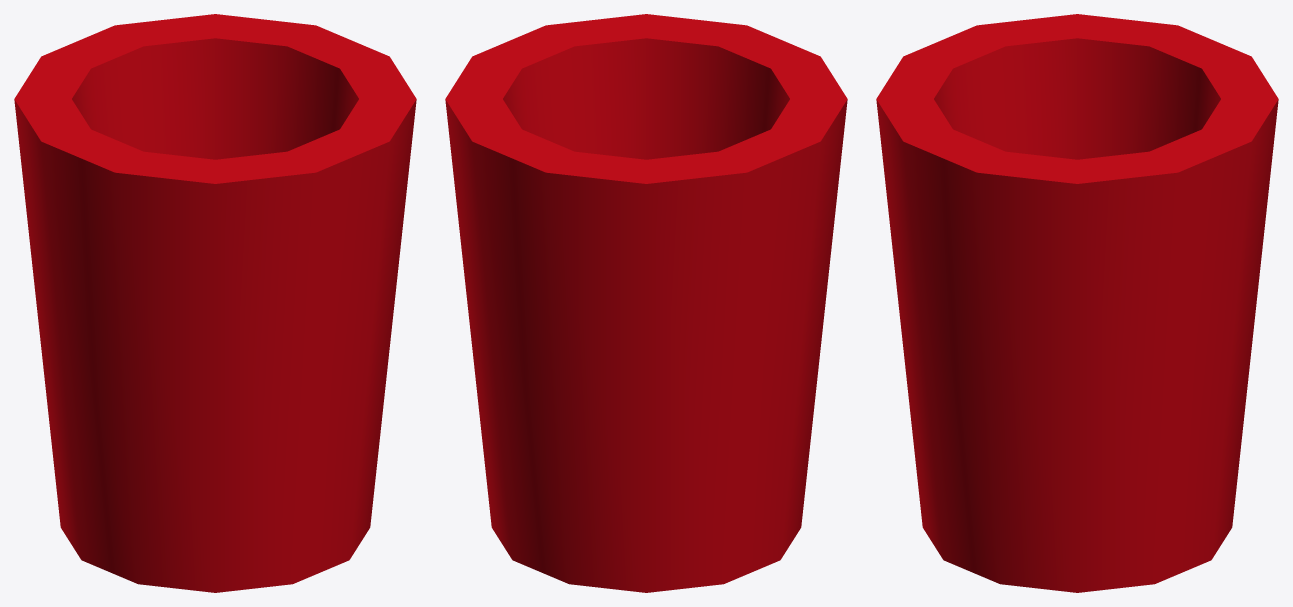
Rendered from Stack.fbx.
The picture shows the model from 3 angles, left to right: view 1: azimuth 30°, elevation 25°; view 2: azimuth 150°, elevation 25°; view 3: azimuth 270°, elevation 25°; orthographic projection.
Visible parts, largest first — view 1: Stack; view 2: Stack; view 3: Stack.
Part boxes in pixels (bbox=[...]): Stack: bbox=[14, 14, 416, 592]; Stack: bbox=[445, 14, 847, 592]; Stack: bbox=[876, 14, 1278, 592].
Size of the model in its own units: 0.0539 by 0.0634 by 0.0539.
